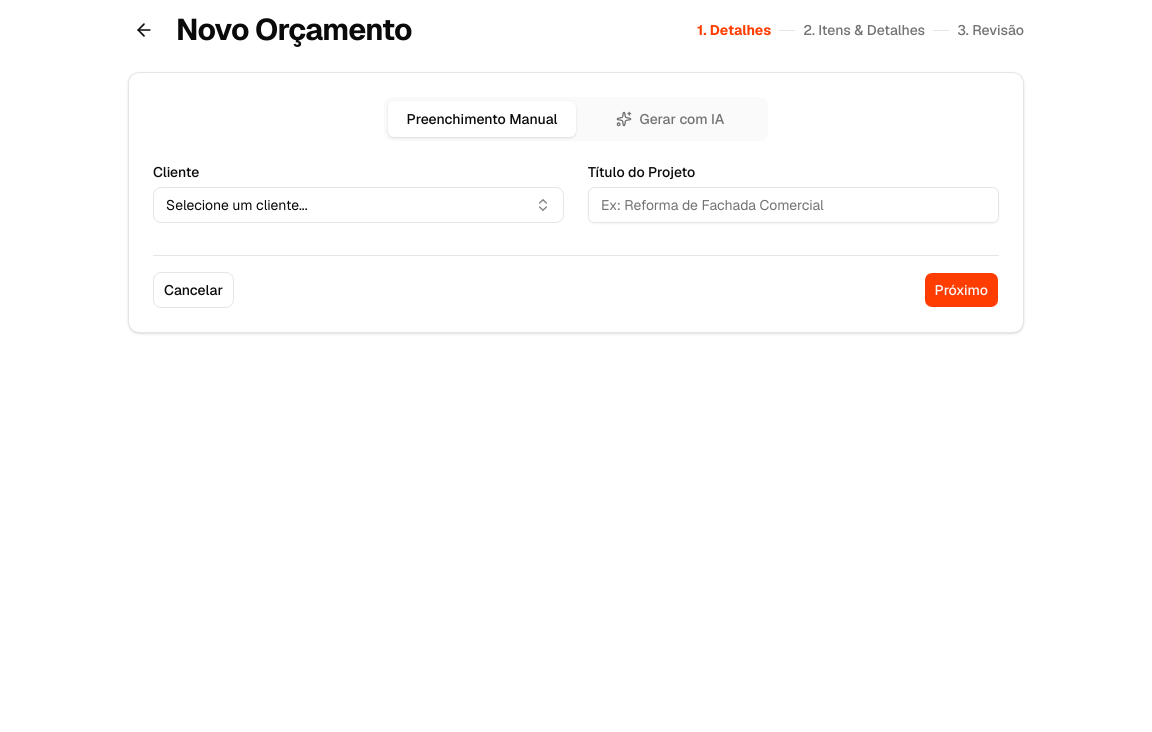
Test case: NewQuotePage Wizard › New Estimate page follows a wizard flow and allows export
Expected: the dropdown labelled "Selecione um cliente..." is shown, [153,187,564,223]
// Fill Step 1
Type "Test Title" into the field labelled "Título do Projeto".
click(794, 205); type("Test Title")  # box [588,187,999,223]
// Searchable dropdown selection
Click the dropdown.
click(237, 205)  # box [153,187,564,223]
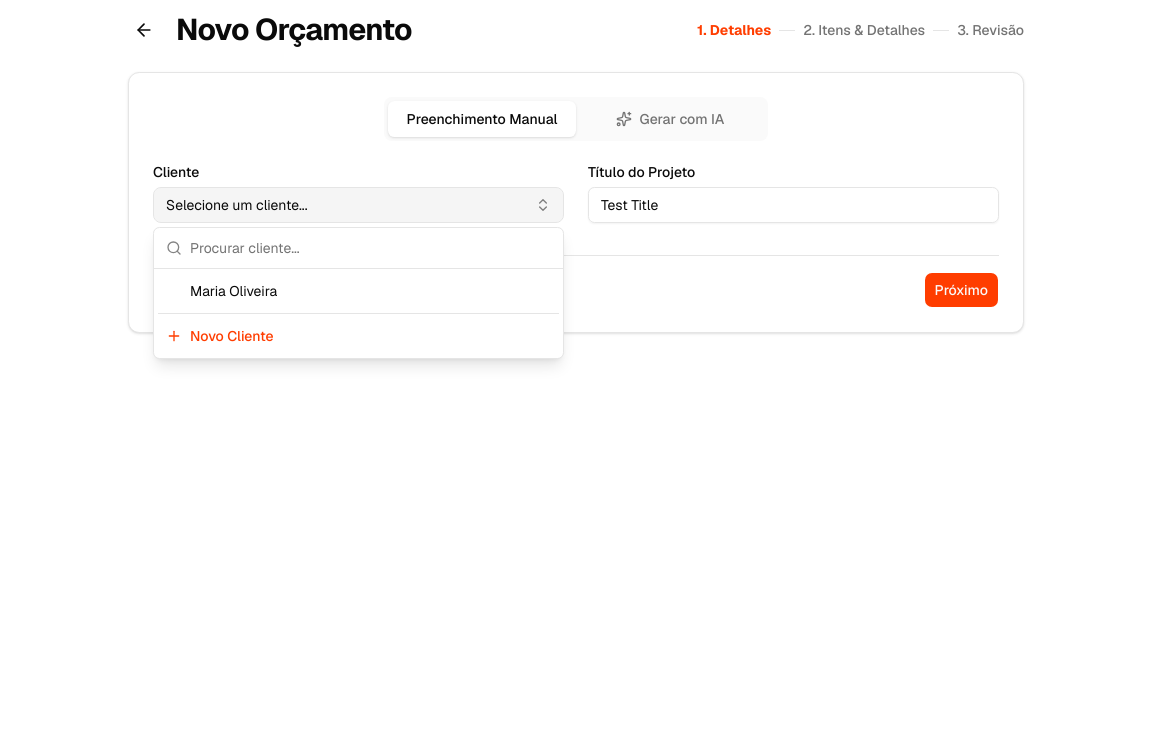
Type "Maria" into the field with placeholder "Procurar cliente...".
click(370, 248); type("Maria")  # box [190,228,551,268]
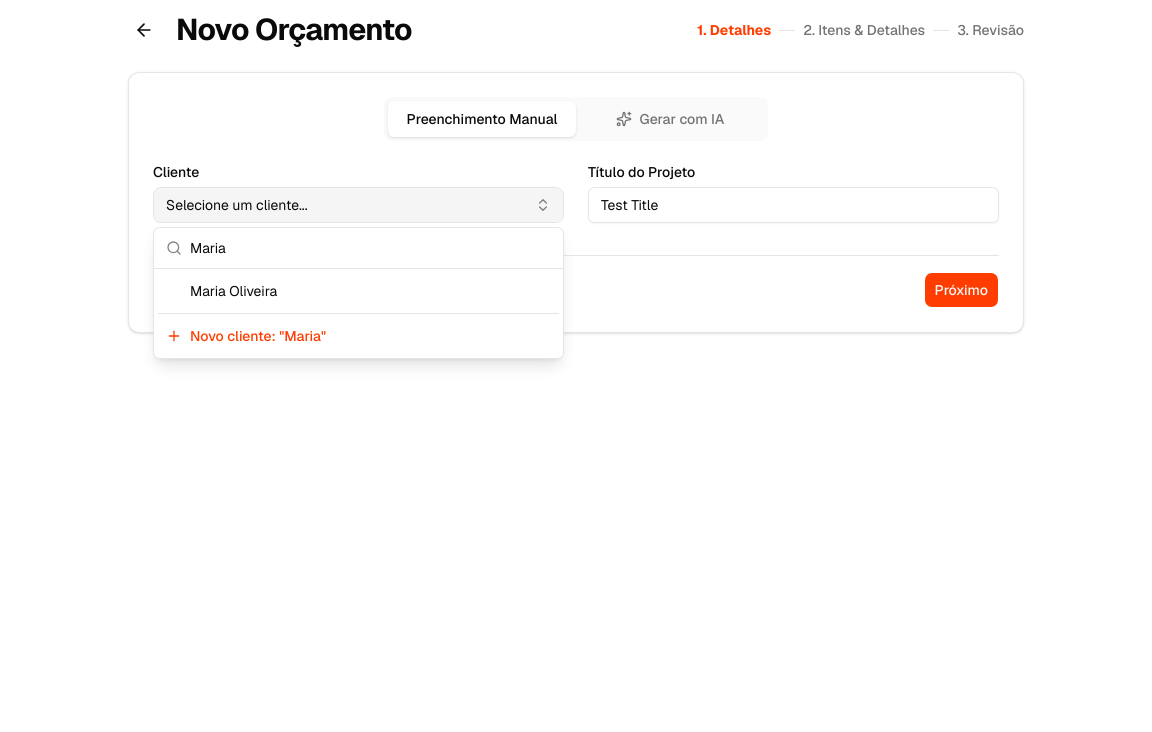
Click the button "Maria Oliveira".
click(234, 291)  # box [158,273,559,309]
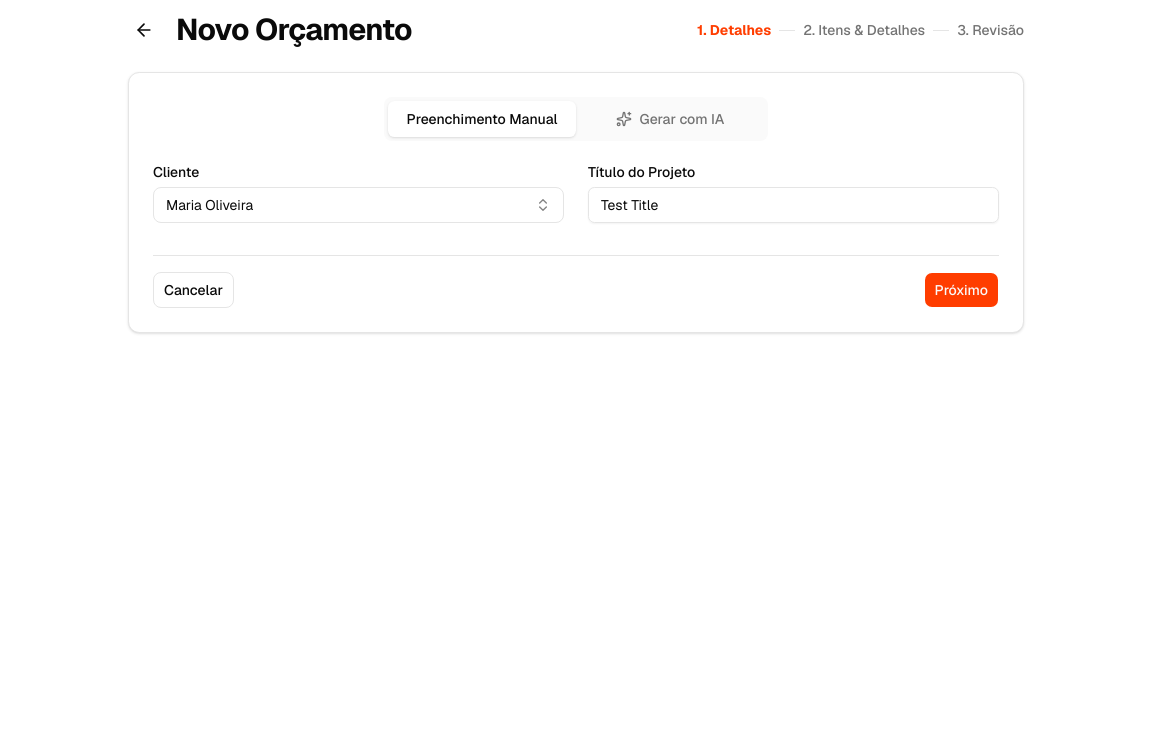
// Go to Step 2
Click the button "Próximo".
click(961, 290)  # box [924,272,999,308]
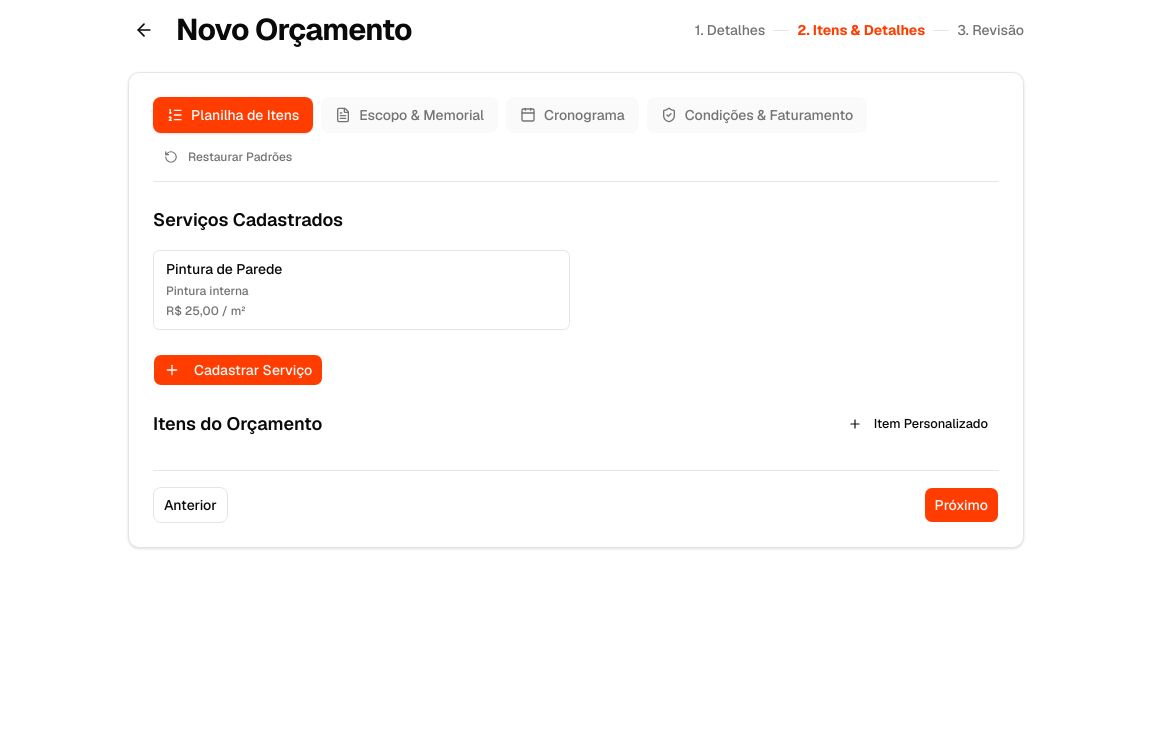
Expected: the heading "Itens do Orçamento" is shown, [153,410,322,438]
// Fill Step 2 (Add an item)
Click the text "Pintura de Parede".
click(224, 269)  # box [166,259,282,279]
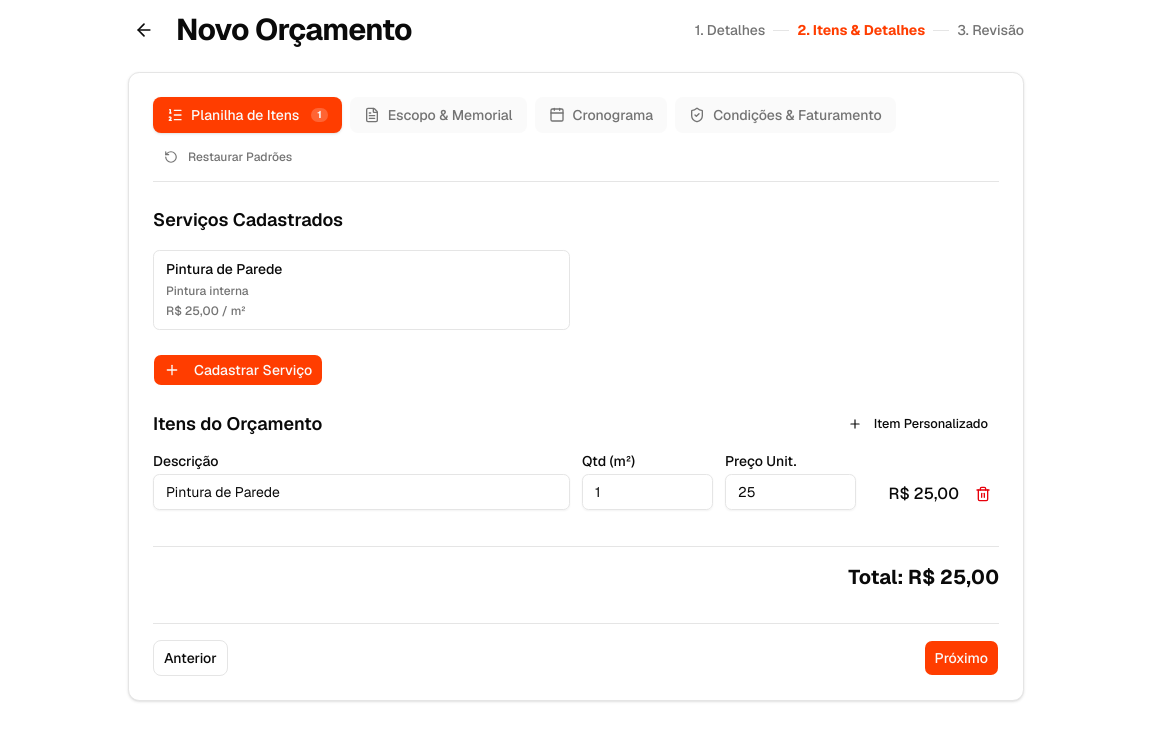
// Go to Step 3
Click the button "Próximo".
click(961, 658)  # box [924,640,999,676]
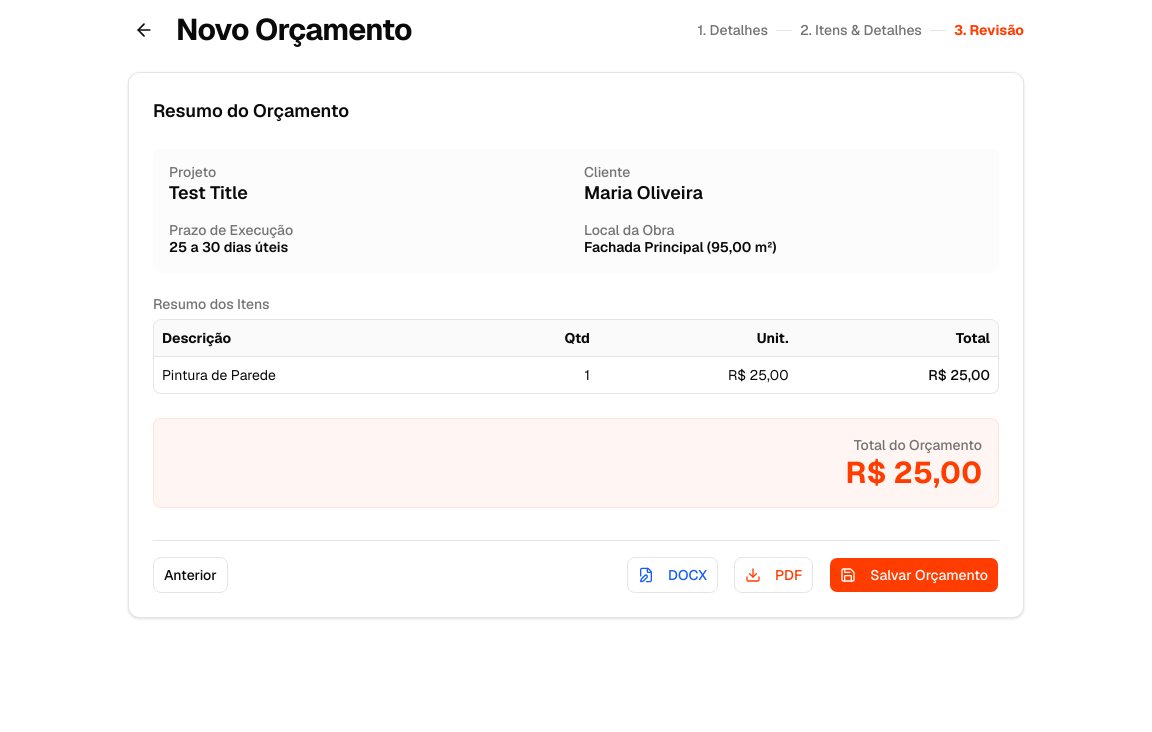
Expected: the text "Resumo dos Itens" is shown, [153,295,270,313]
Expected: the text "Test Title" is shown, [169,181,248,204]
Expected: the text "Maria Oliveira" is shown, [584,181,703,204]
